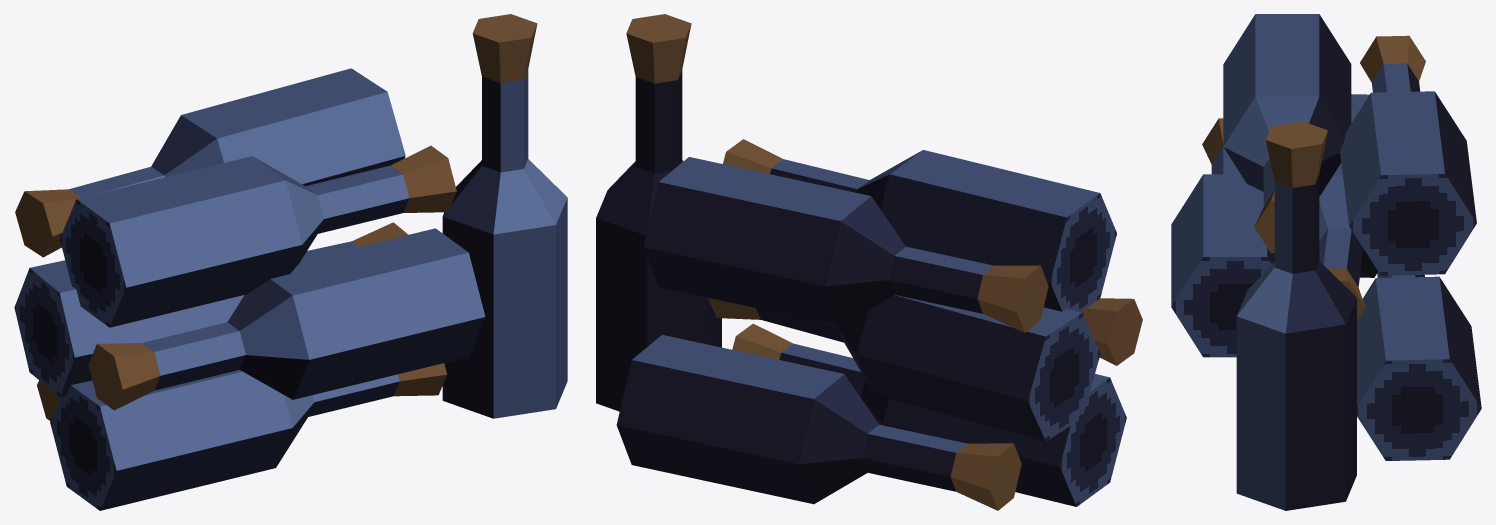
File: fuellung_flaschen_a_blau.glb
3 renders of one model, left to right at view 1: azimuth 30°, elevation 25°; view 2: azimuth 150°, elevation 25°; view 3: azimuth 270°, elevation 25°, orthographic. The views are drawn at different scales.
Visible parts, largest first — view 1: flaschen_a_blau; view 2: flaschen_a_blau; view 3: flaschen_a_blau.
Part boxes in pixels (x1=…): flaschen_a_blau: x1=14, y1=14, x2=567, y2=510; flaschen_a_blau: x1=596, y1=14, x2=1142, y2=510; flaschen_a_blau: x1=1171, y1=14, x2=1481, y2=510.
Size of the model in its own units: 0.5066 by 0.3575 by 0.2881.
1 material, 1 textured.
